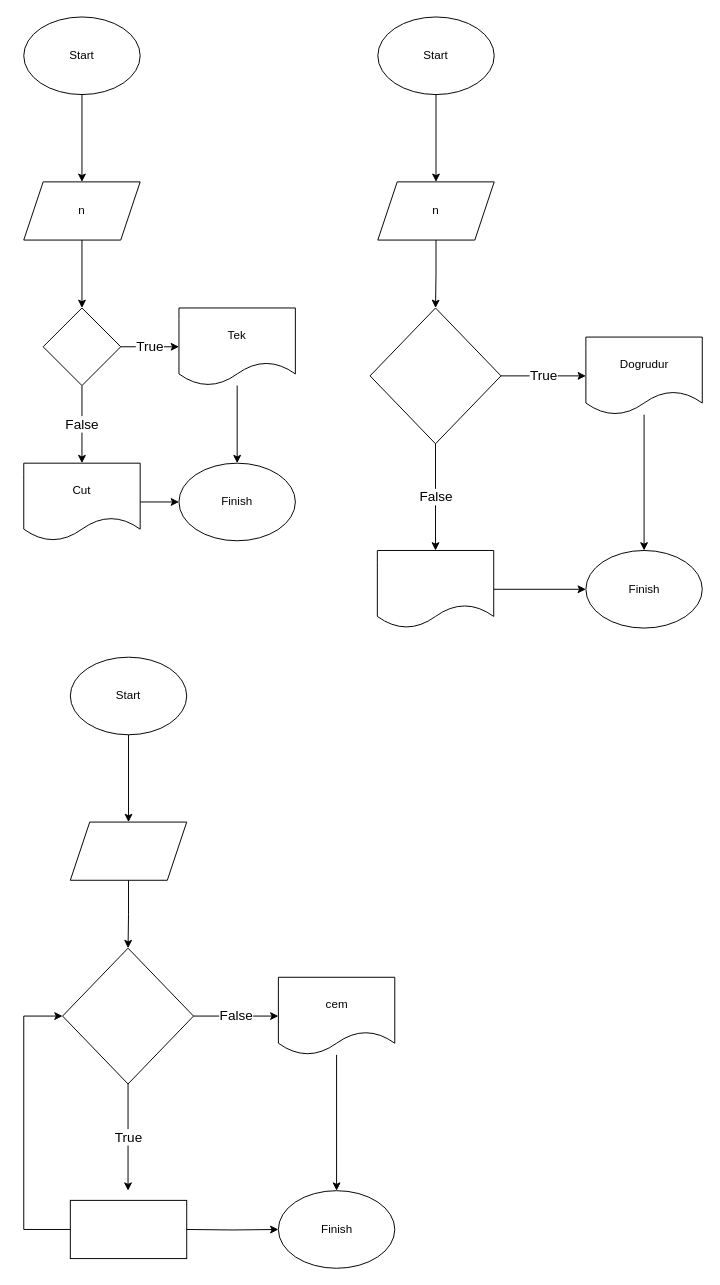
The diagram is 720 pixels wide and 1285 high, and some of its shapes have lost their labels. The centre of each missing label's shape, as x and y in pixels:
(n > 100 && n % 2) || (n < 100 && !n % 2): the point at 435,375
cem += n % 10; n /= 10: the point at 128,1229
Düzgün ədəd daxil edilməyib: the point at 435,589
n != 0: the point at 128,1015
n%2: the point at 81,346
n,cem=0: the point at 128,850
